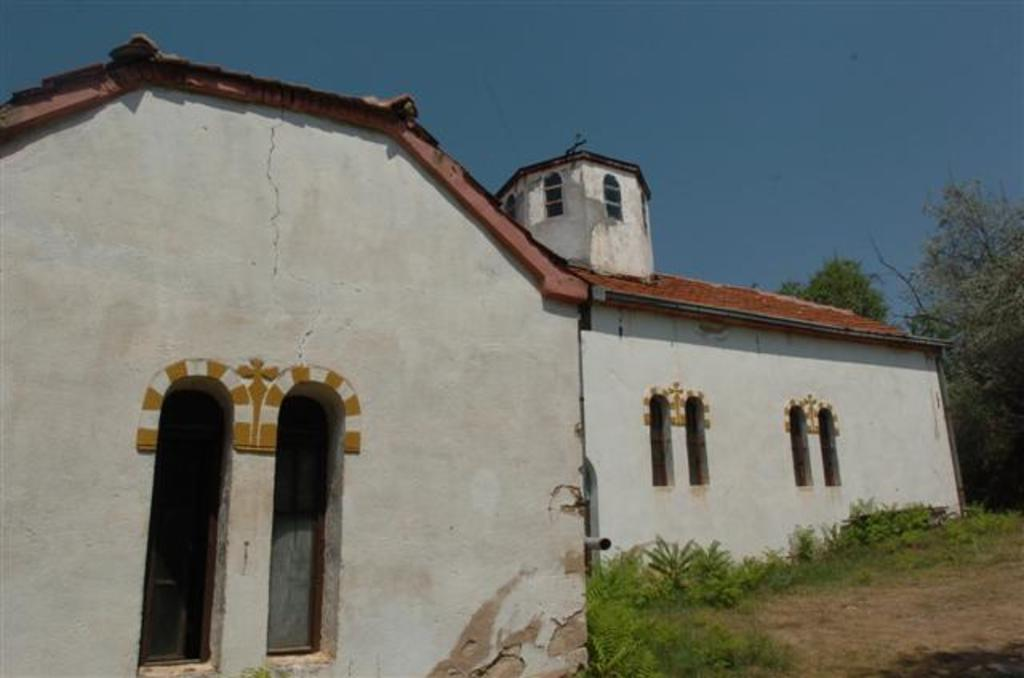Tree: (868, 172, 1022, 460), (769, 243, 894, 316)
